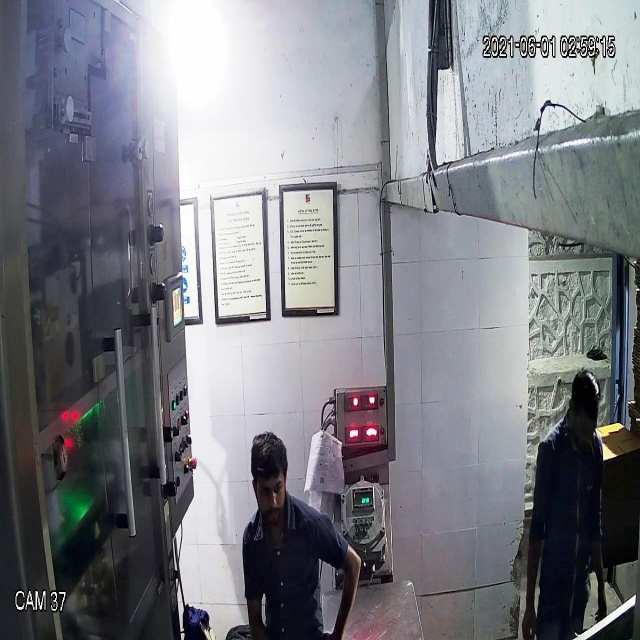Sin_gafas: (249, 472, 289, 508)
